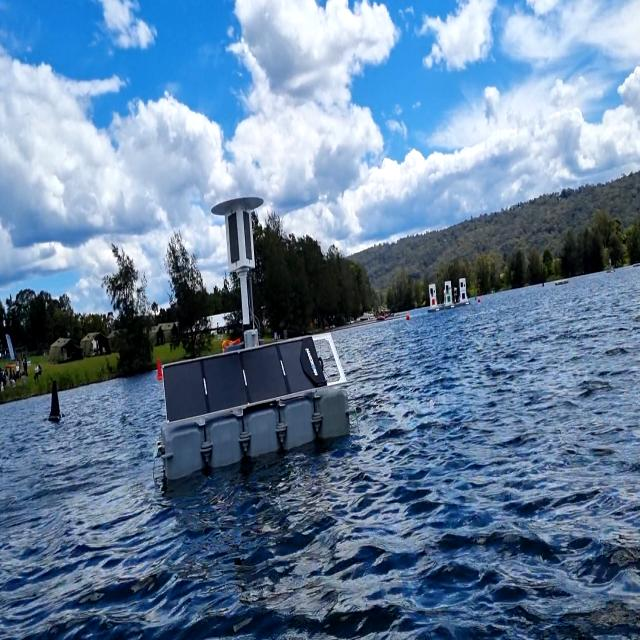led: (228, 213, 239, 260), (242, 210, 250, 263)
